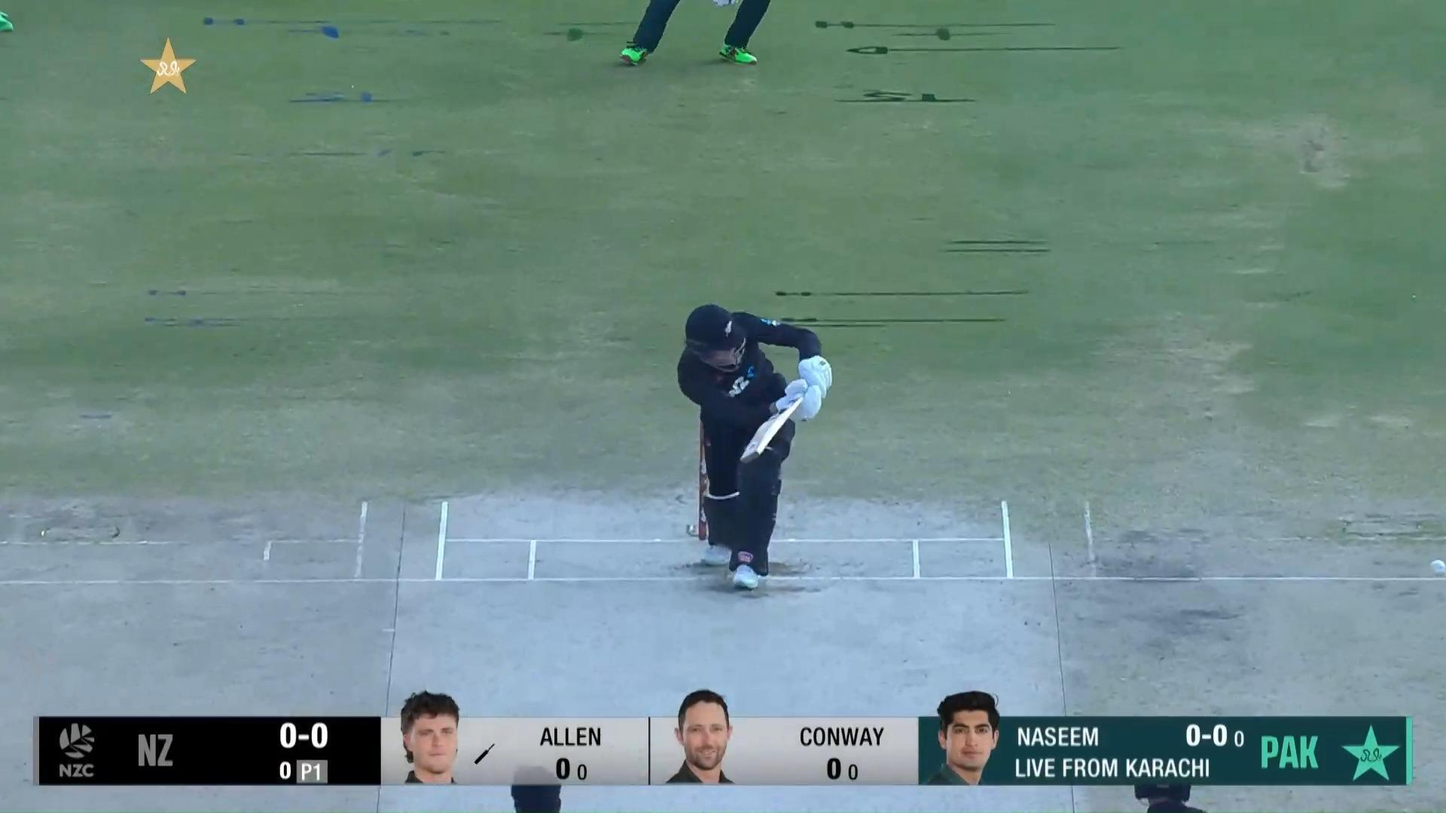BM 1: (676, 302, 834, 592)
BO: (511, 784, 561, 813)
